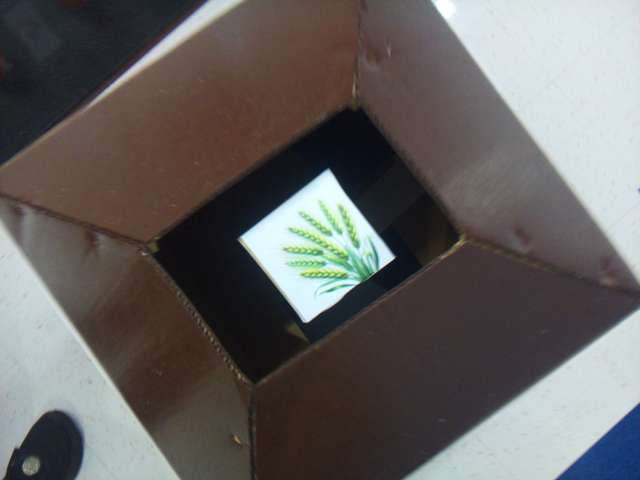wheat_barn: (241, 171, 393, 319)
